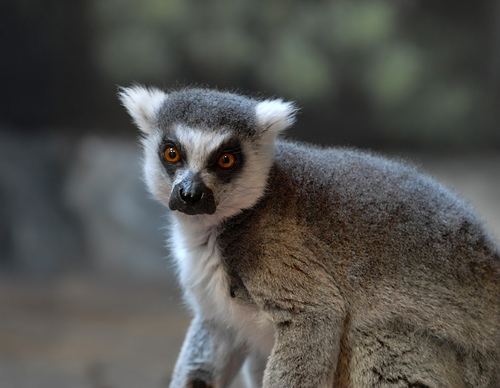cat: (115, 83, 499, 387)
